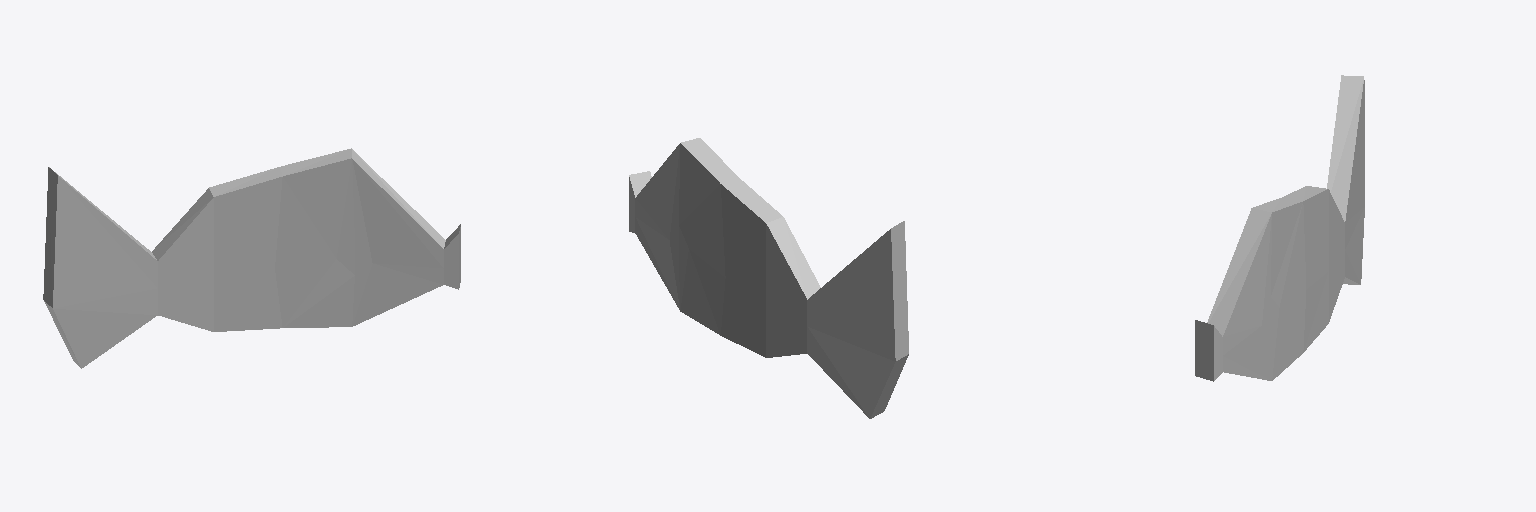
Rendered from water_cycle_fish.obj.
3 views of the same model, side by side, from view 1: azimuth 30°, elevation 25°; view 2: azimuth 150°, elevation 25°; view 3: azimuth 270°, elevation 25° (orthographic).
Visible parts, largest first — view 1: FISH006; view 2: FISH006; view 3: FISH006.
Part boxes in pixels (x1,y1,x2,y2): FISH006: (43, 148, 460, 368); FISH006: (629, 138, 908, 418); FISH006: (1195, 75, 1364, 381).
Size of the model in its own units: 0.8542 by 0.4687 by 0.3655.